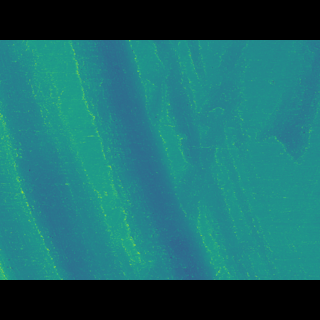Loch: (0, 69, 245, 249)
